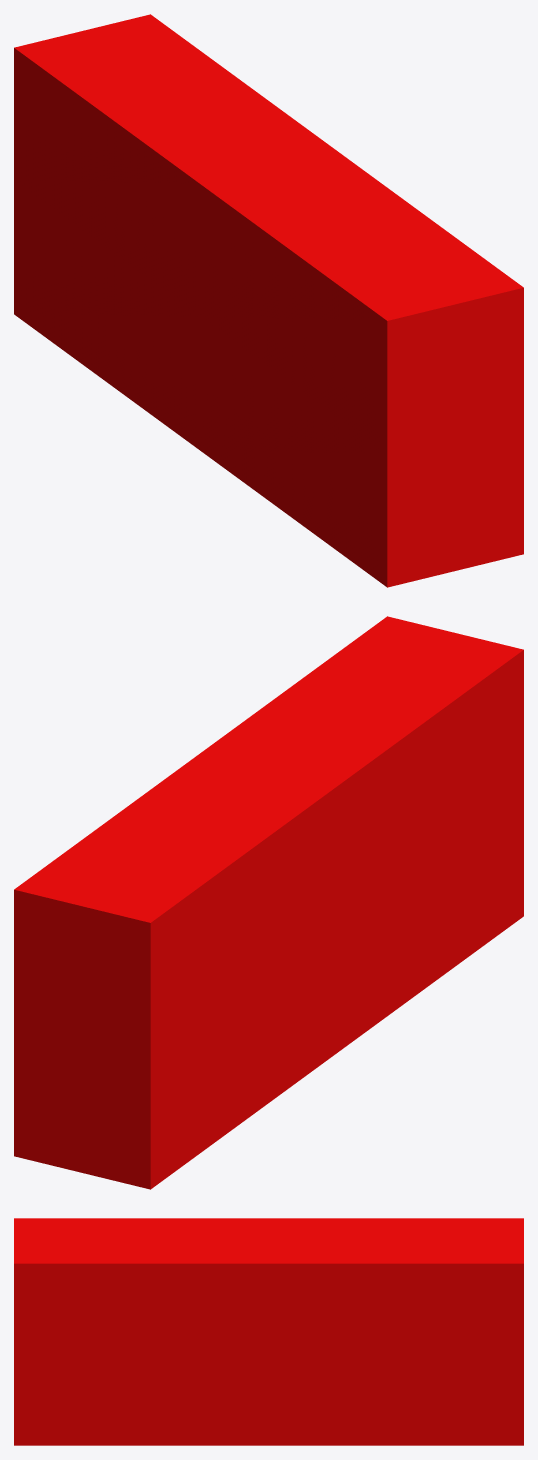
File: arm_r_2mc_col.dae
3 views of the same model, one above another, from view 1: azimuth 30°, elevation 25°; view 2: azimuth 150°, elevation 25°; view 3: azimuth 270°, elevation 25° (orthographic). The views are drawn at different scales.
Parts seen in each view (by area): view 1: node0; view 2: node0; view 3: node0.
Part boxes in pixels (box(x1,y1,x2,y2)): node0: box(14, 14, 523, 587); node0: box(14, 616, 523, 1189); node0: box(14, 1218, 523, 1445).
Size of the model in its own units: 0.0135 by 0.0252 by 0.0639.
